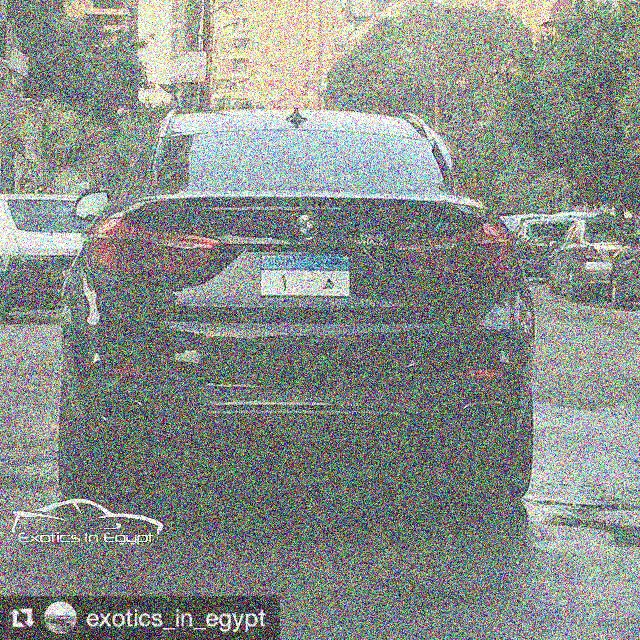License Plate: (256, 249, 356, 300)
